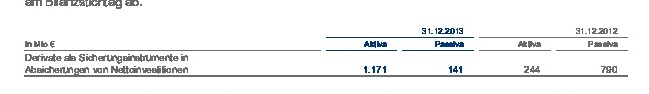table: (0, 0, 649, 94)
